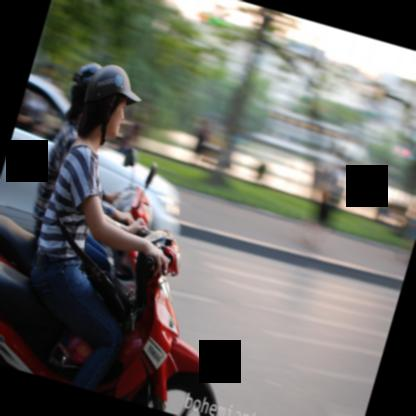handbag: (57, 211, 136, 336)
